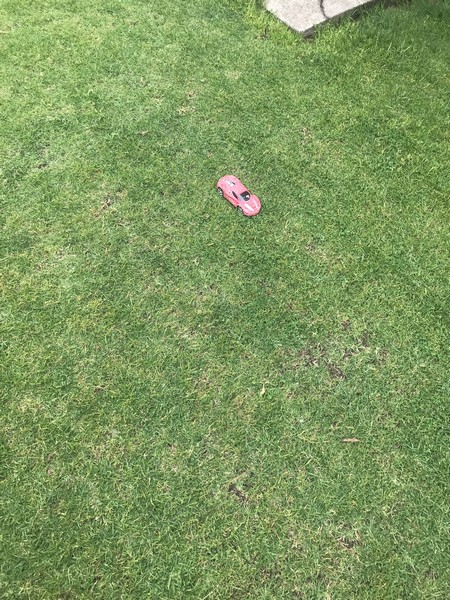RC: (215, 174, 264, 218)
